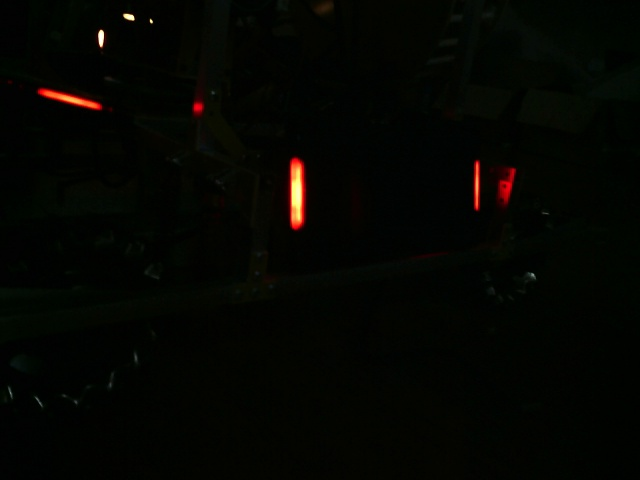lamp: (279, 155, 311, 234)
